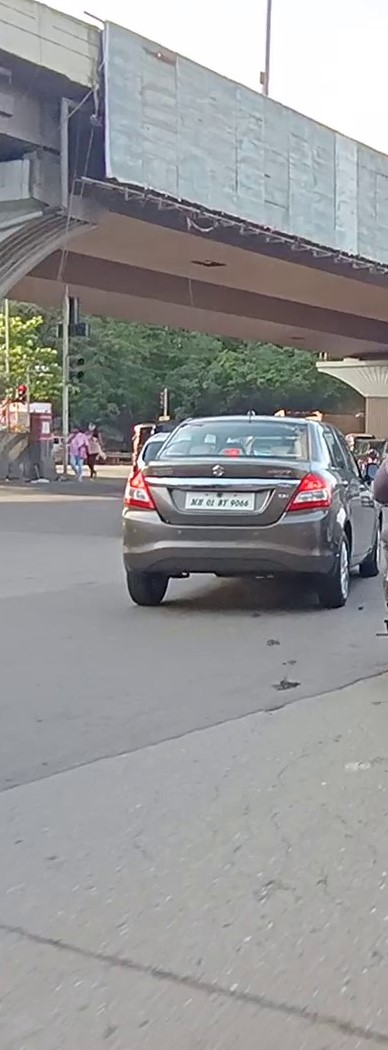MH01BT9066: (182, 489, 255, 512)
